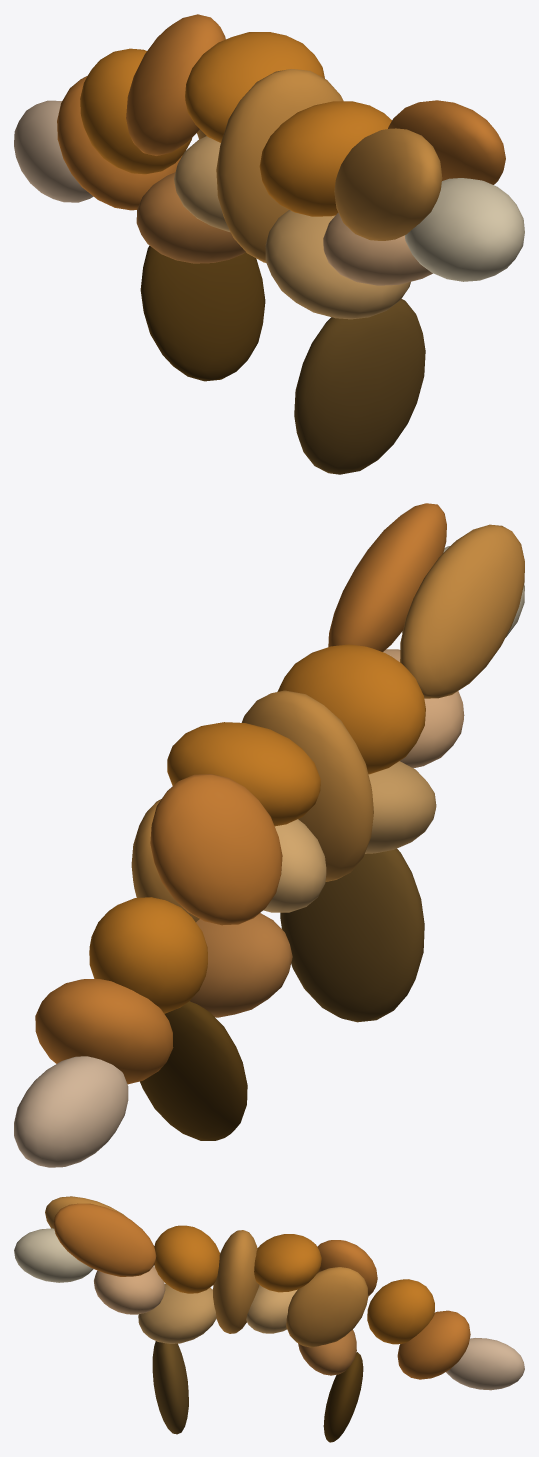
File: Fox_128B_ellip.glb
The picture shows the model from 3 angles, top to bottom: view 1: azimuth 30°, elevation 25°; view 2: azimuth 150°, elevation 25°; view 3: azimuth 270°, elevation 25°; orthographic projection. The views are drawn at different scales.
Size of the model in its own units: 0.3533 by 1.02 by 1.97.
